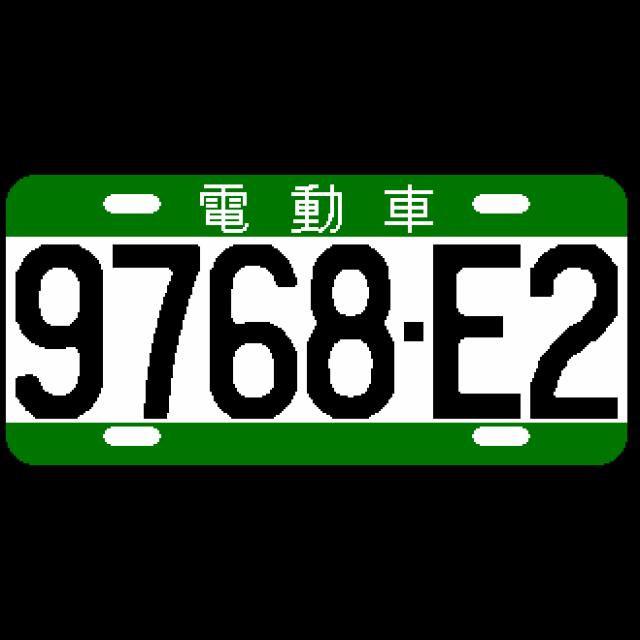plate: (4, 172, 630, 470)
